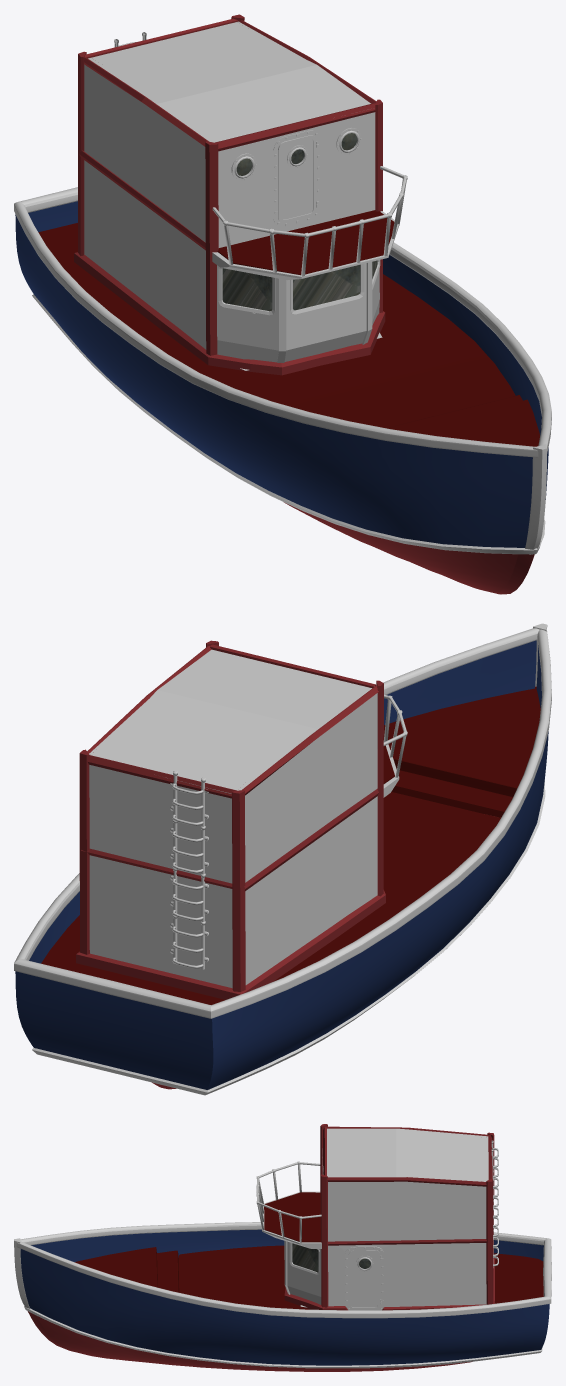
The model's file is BoatFull.fbx.
3 renders of one model, top to bottom at view 1: azimuth 30°, elevation 25°; view 2: azimuth 150°, elevation 25°; view 3: azimuth 270°, elevation 25°, orthographic. The views are drawn at different scales.
Parts seen in each view (by area): view 1: BoatDown, BoatUP, Door.002; view 2: BoatUP, BoatDown, Ladder.001; view 3: BoatDown, BoatUP, Door.001, Ladder.001.
Part boxes in pixels (bbox=[...]): BoatDown: bbox=[14, 187, 551, 594]; BoatUP: bbox=[74, 14, 407, 375]; Door.002: bbox=[278, 135, 317, 223]; BoatUP: bbox=[76, 640, 407, 999]; BoatDown: bbox=[14, 623, 551, 1095]; Ladder.001: bbox=[170, 771, 208, 969]; BoatDown: bbox=[14, 1222, 551, 1371]; BoatUP: bbox=[256, 1124, 495, 1310]; Door.001: bbox=[348, 1250, 381, 1309]; Ladder.001: bbox=[491, 1140, 498, 1267].
Size of the model in its own units: 605 by 667 by 1525.
